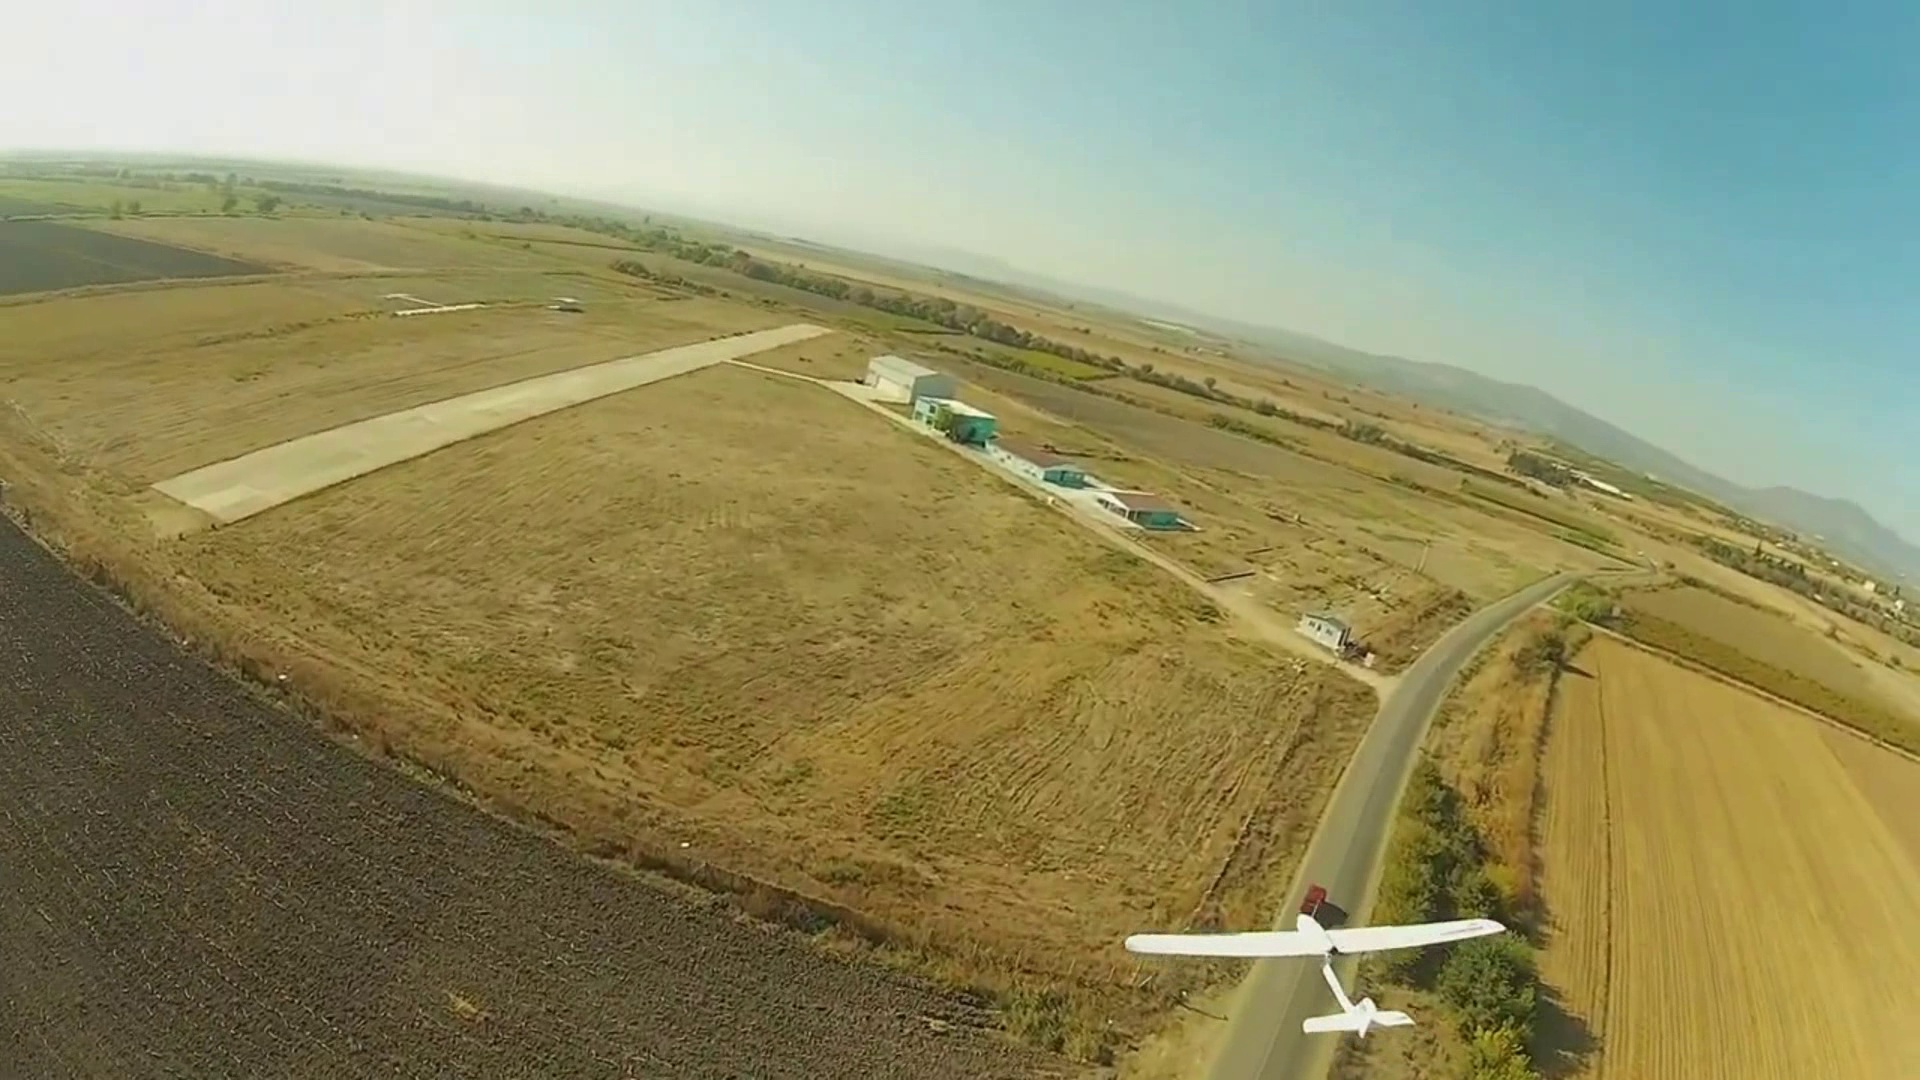airplane: (1126, 553, 1918, 1072)
